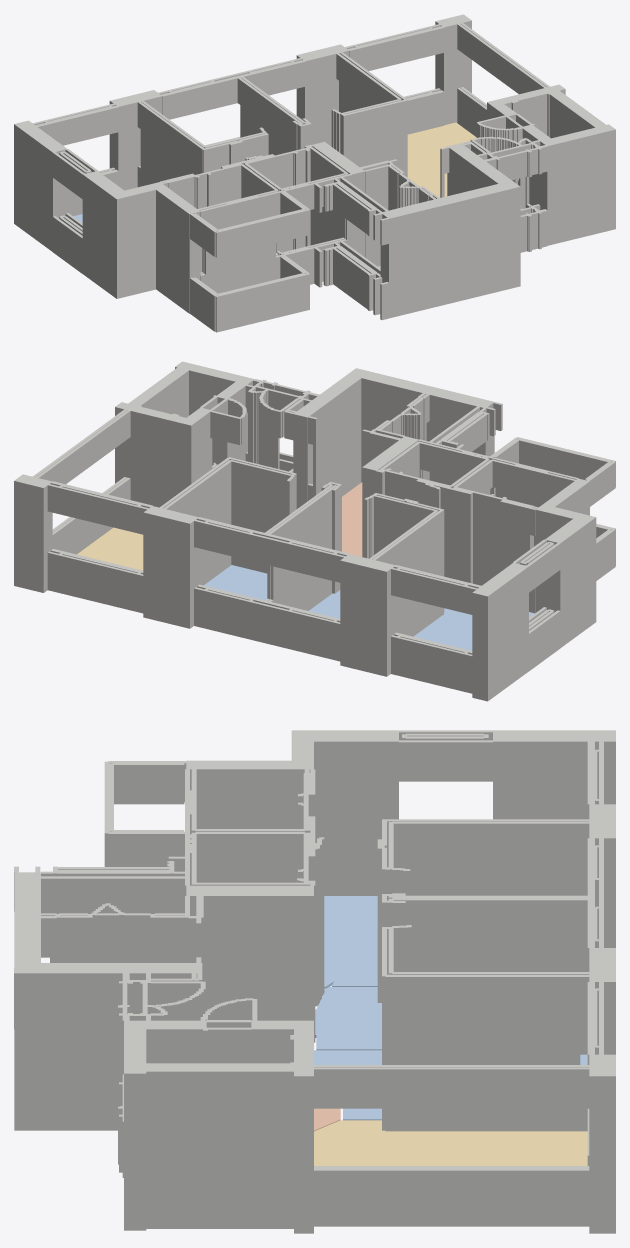
3 renders of one model, top to bottom at view 1: azimuth 30°, elevation 25°; view 2: azimuth 150°, elevation 25°; view 3: azimuth 270°, elevation 25°, orthographic. The views are drawn at different scales.
Parts seen in each view (by area): view 1: walls, room:living:5; view 2: walls, room:living:5, room:bedroom:0, room:bedroom:4, room:kitchen:9, room:bedroom:3; view 3: walls, room:living:5, room:bedroom:0, room:bedroom:3, room:bedroom:4.
Boxes of the visible parts, left/top/right/bottom form: walls: left=14, top=14, right=615, bottom=332; room:living:5: left=407, top=122, right=476, bottom=197; walls: left=14, top=361, right=615, bottom=701; room:living:5: left=77, top=527, right=143, bottom=570; room:bedroom:0: left=414, top=608, right=534, bottom=650; room:bedroom:4: left=204, top=565, right=267, bottom=600; room:kitchen:9: left=342, top=482, right=362, bottom=556; room:bedroom:3: left=309, top=590, right=340, bottom=618; walls: left=14, top=730, right=615, bottom=1233; room:living:5: left=314, top=1120, right=587, bottom=1165; room:bedroom:0: left=324, top=896, right=377, bottom=988; room:bedroom:3: left=315, top=987, right=381, bottom=1050; room:bedroom:4: left=314, top=1050, right=587, bottom=1120.
Size of the model in its own units: 13.22 by 2.8 by 9.72.
